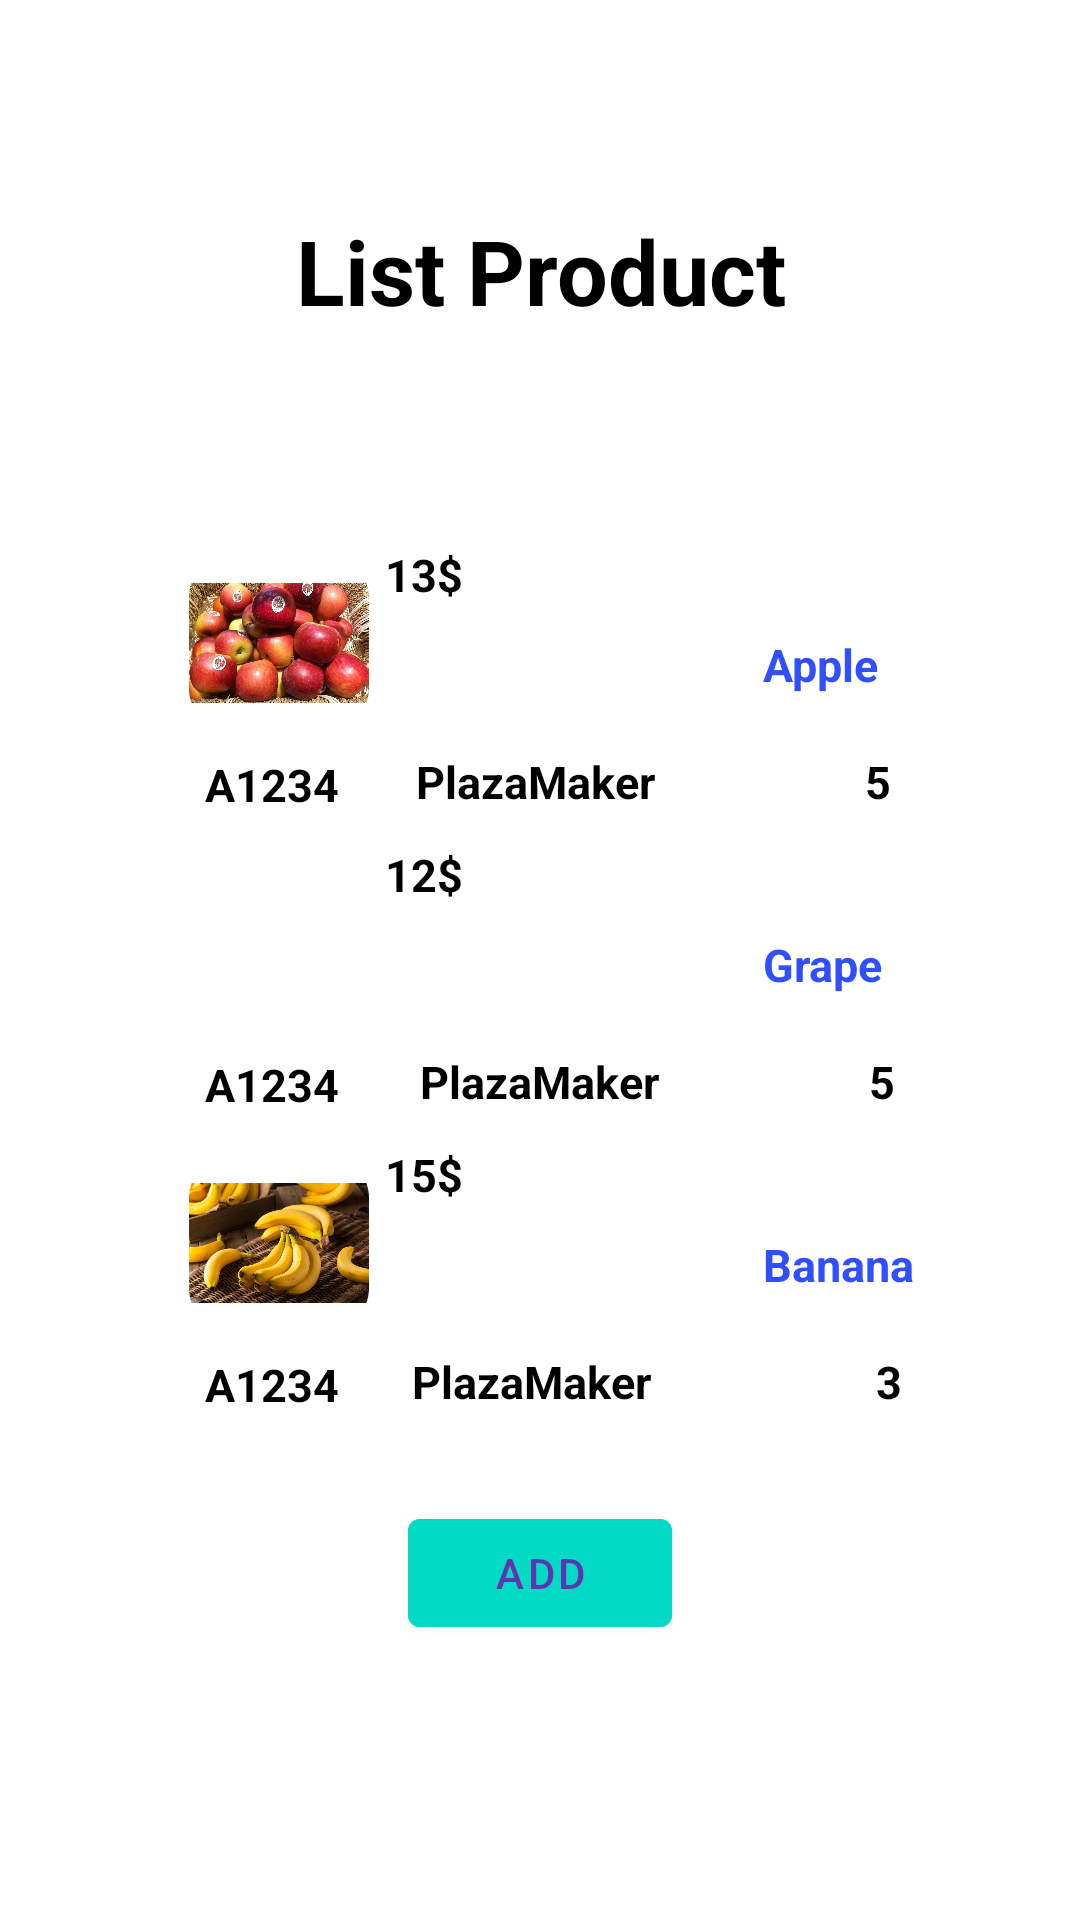

Named icons in this screenshot (1080w x 1920h) and their bounding boxes, (x1, y1, x2, y2):
chuoi: (189, 1183, 369, 1303)
tao: (189, 583, 369, 703)
